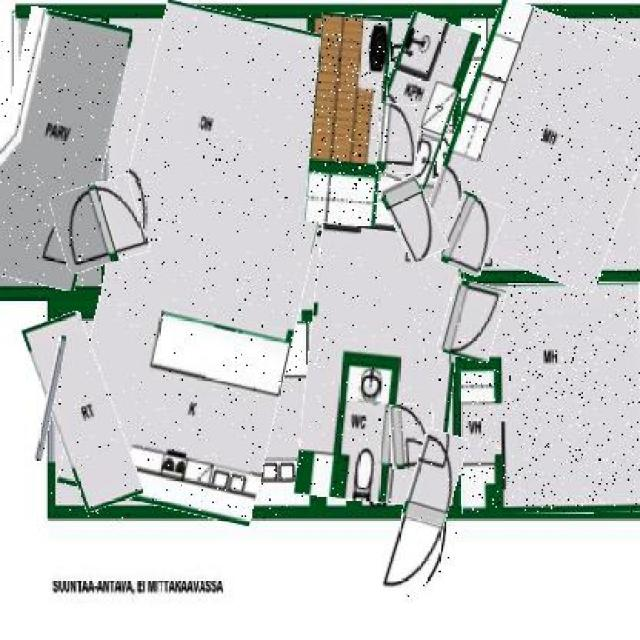door: (392, 429, 457, 597), (55, 180, 148, 269), (443, 280, 502, 362), (386, 176, 442, 262), (440, 194, 500, 274), (377, 103, 418, 174), (391, 403, 434, 469)
window: (40, 336, 60, 462)
zone: (83, 8, 335, 518), (437, 8, 640, 280), (303, 174, 465, 506), (458, 282, 640, 512), (0, 9, 118, 286), (37, 314, 128, 511), (309, 16, 389, 224), (372, 15, 468, 186)
